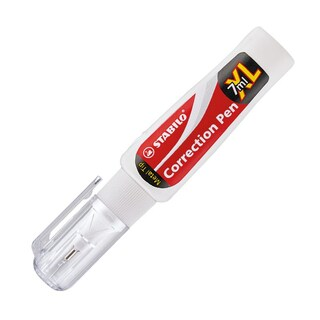Correction_fluid: (30, 21, 298, 295)
